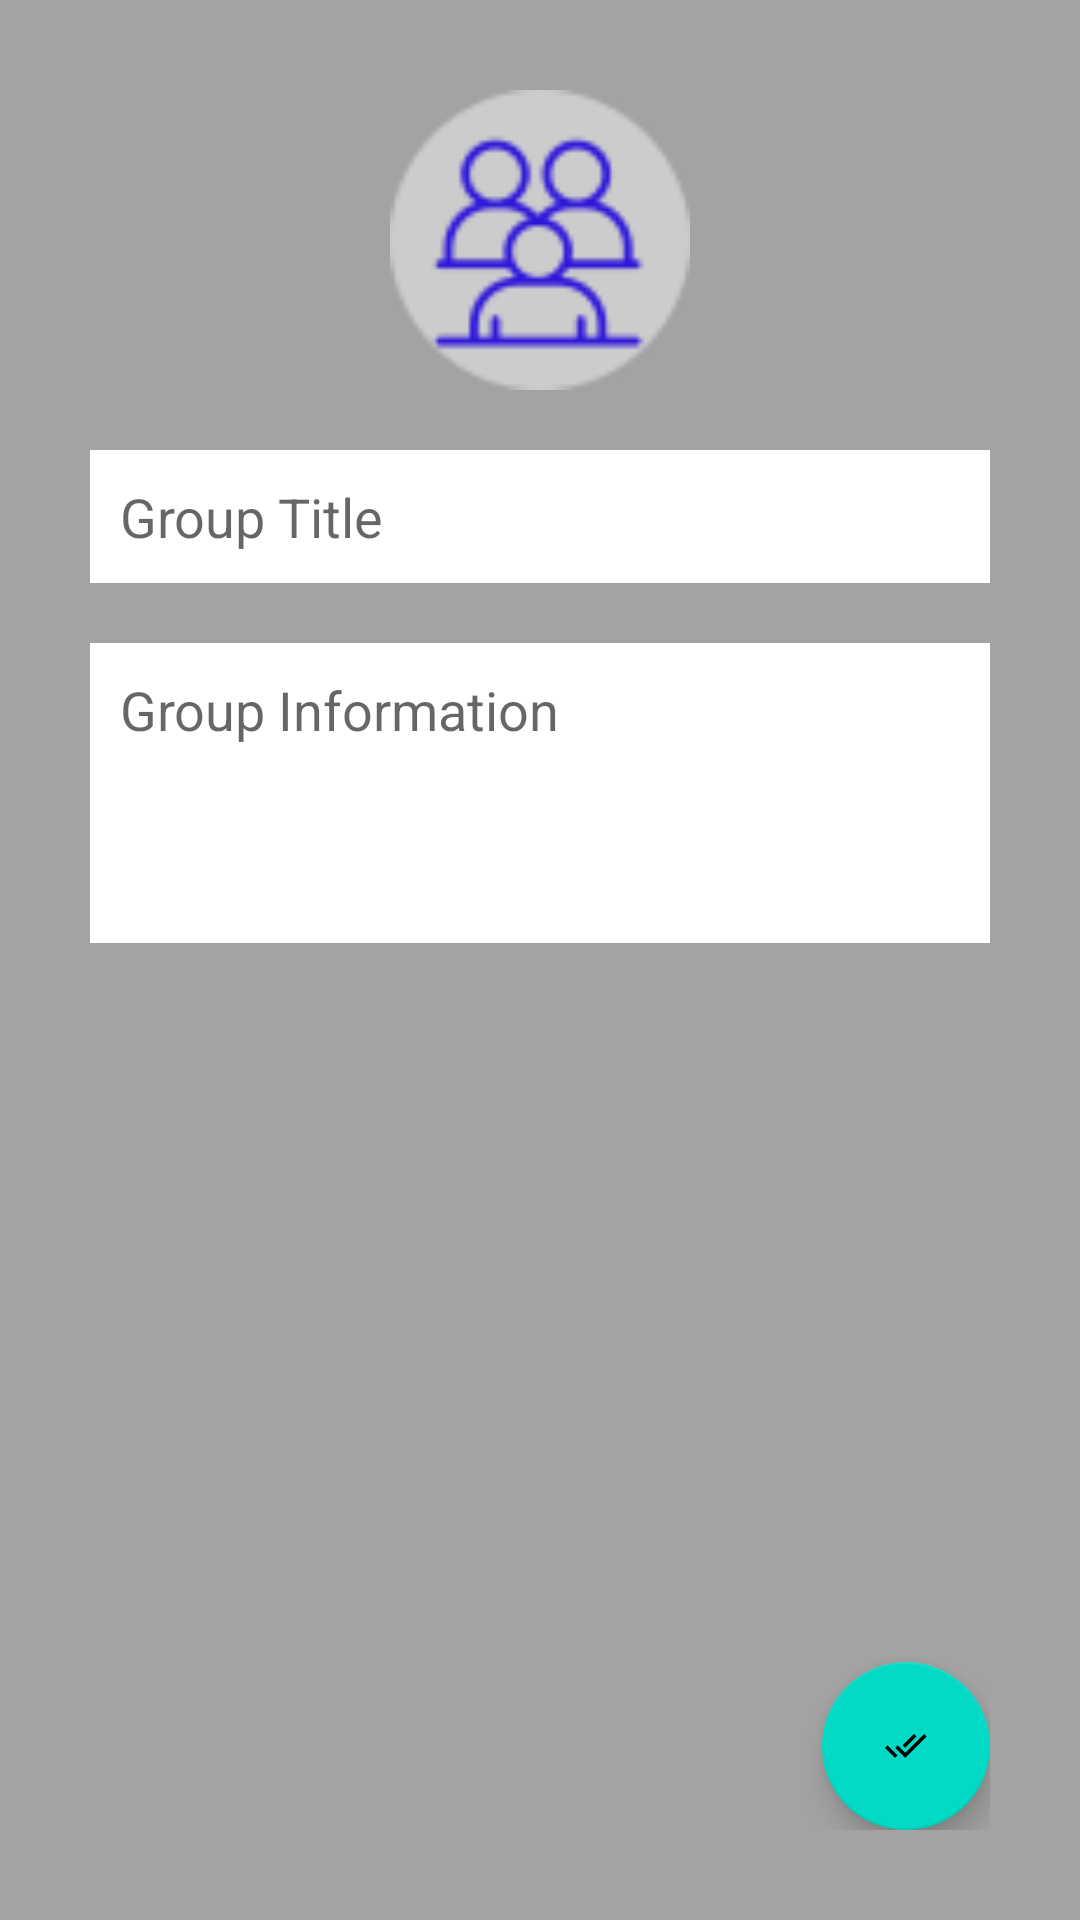

Where icons sit on this 1080 × 1920 app screen, as (x1, y1, x2, y2):
done: (822, 1662, 990, 1830)
